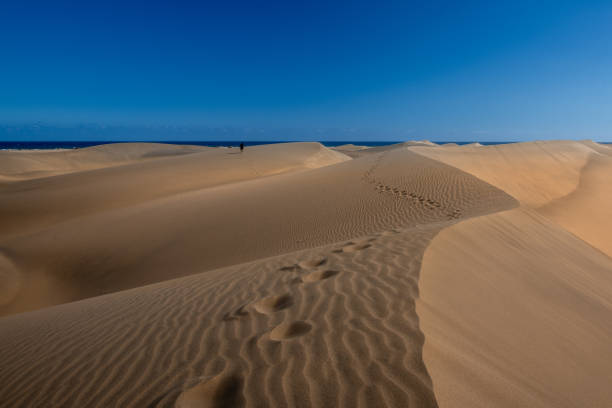human_footprint: (174, 372, 244, 407), (269, 320, 311, 340), (253, 293, 293, 313), (301, 269, 339, 282), (222, 304, 247, 320)
